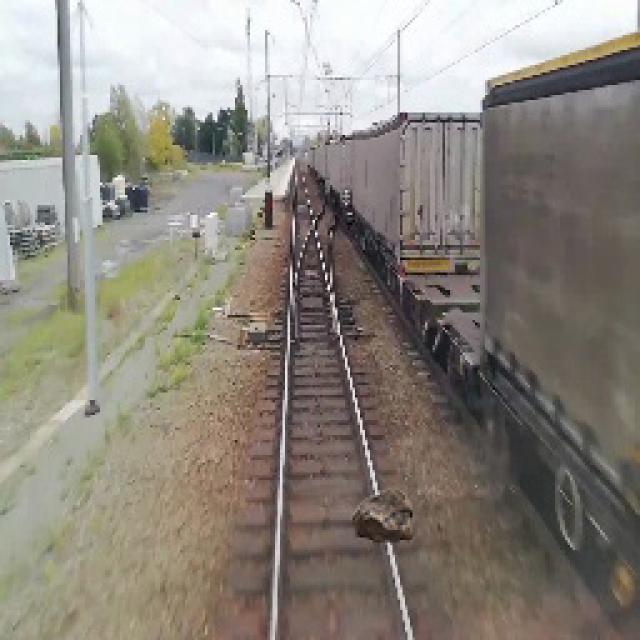rail: (236, 162, 461, 640)
